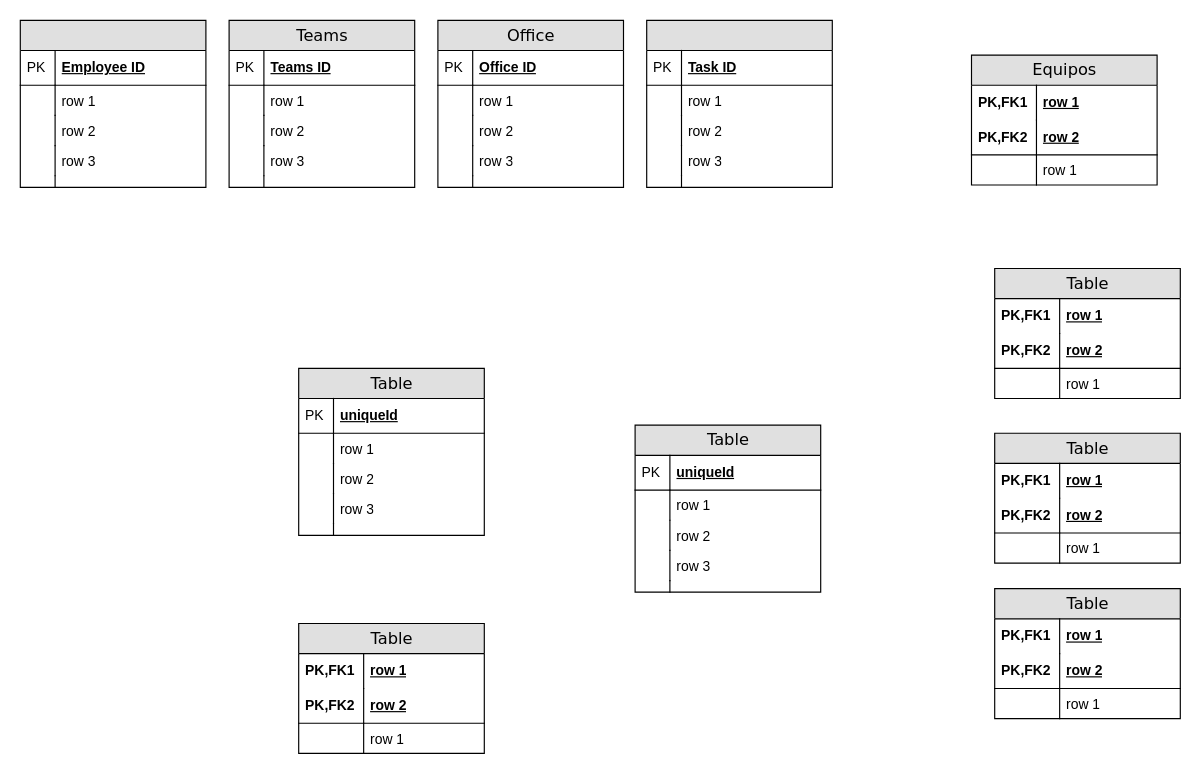
This 1201x777 diagram has some shape labels left out. The box of each missing label's shape, as (x1, y1, x2, y2) in pixels:
Employees: (19, 19, 206, 187)
Tasks: (646, 19, 832, 187)
